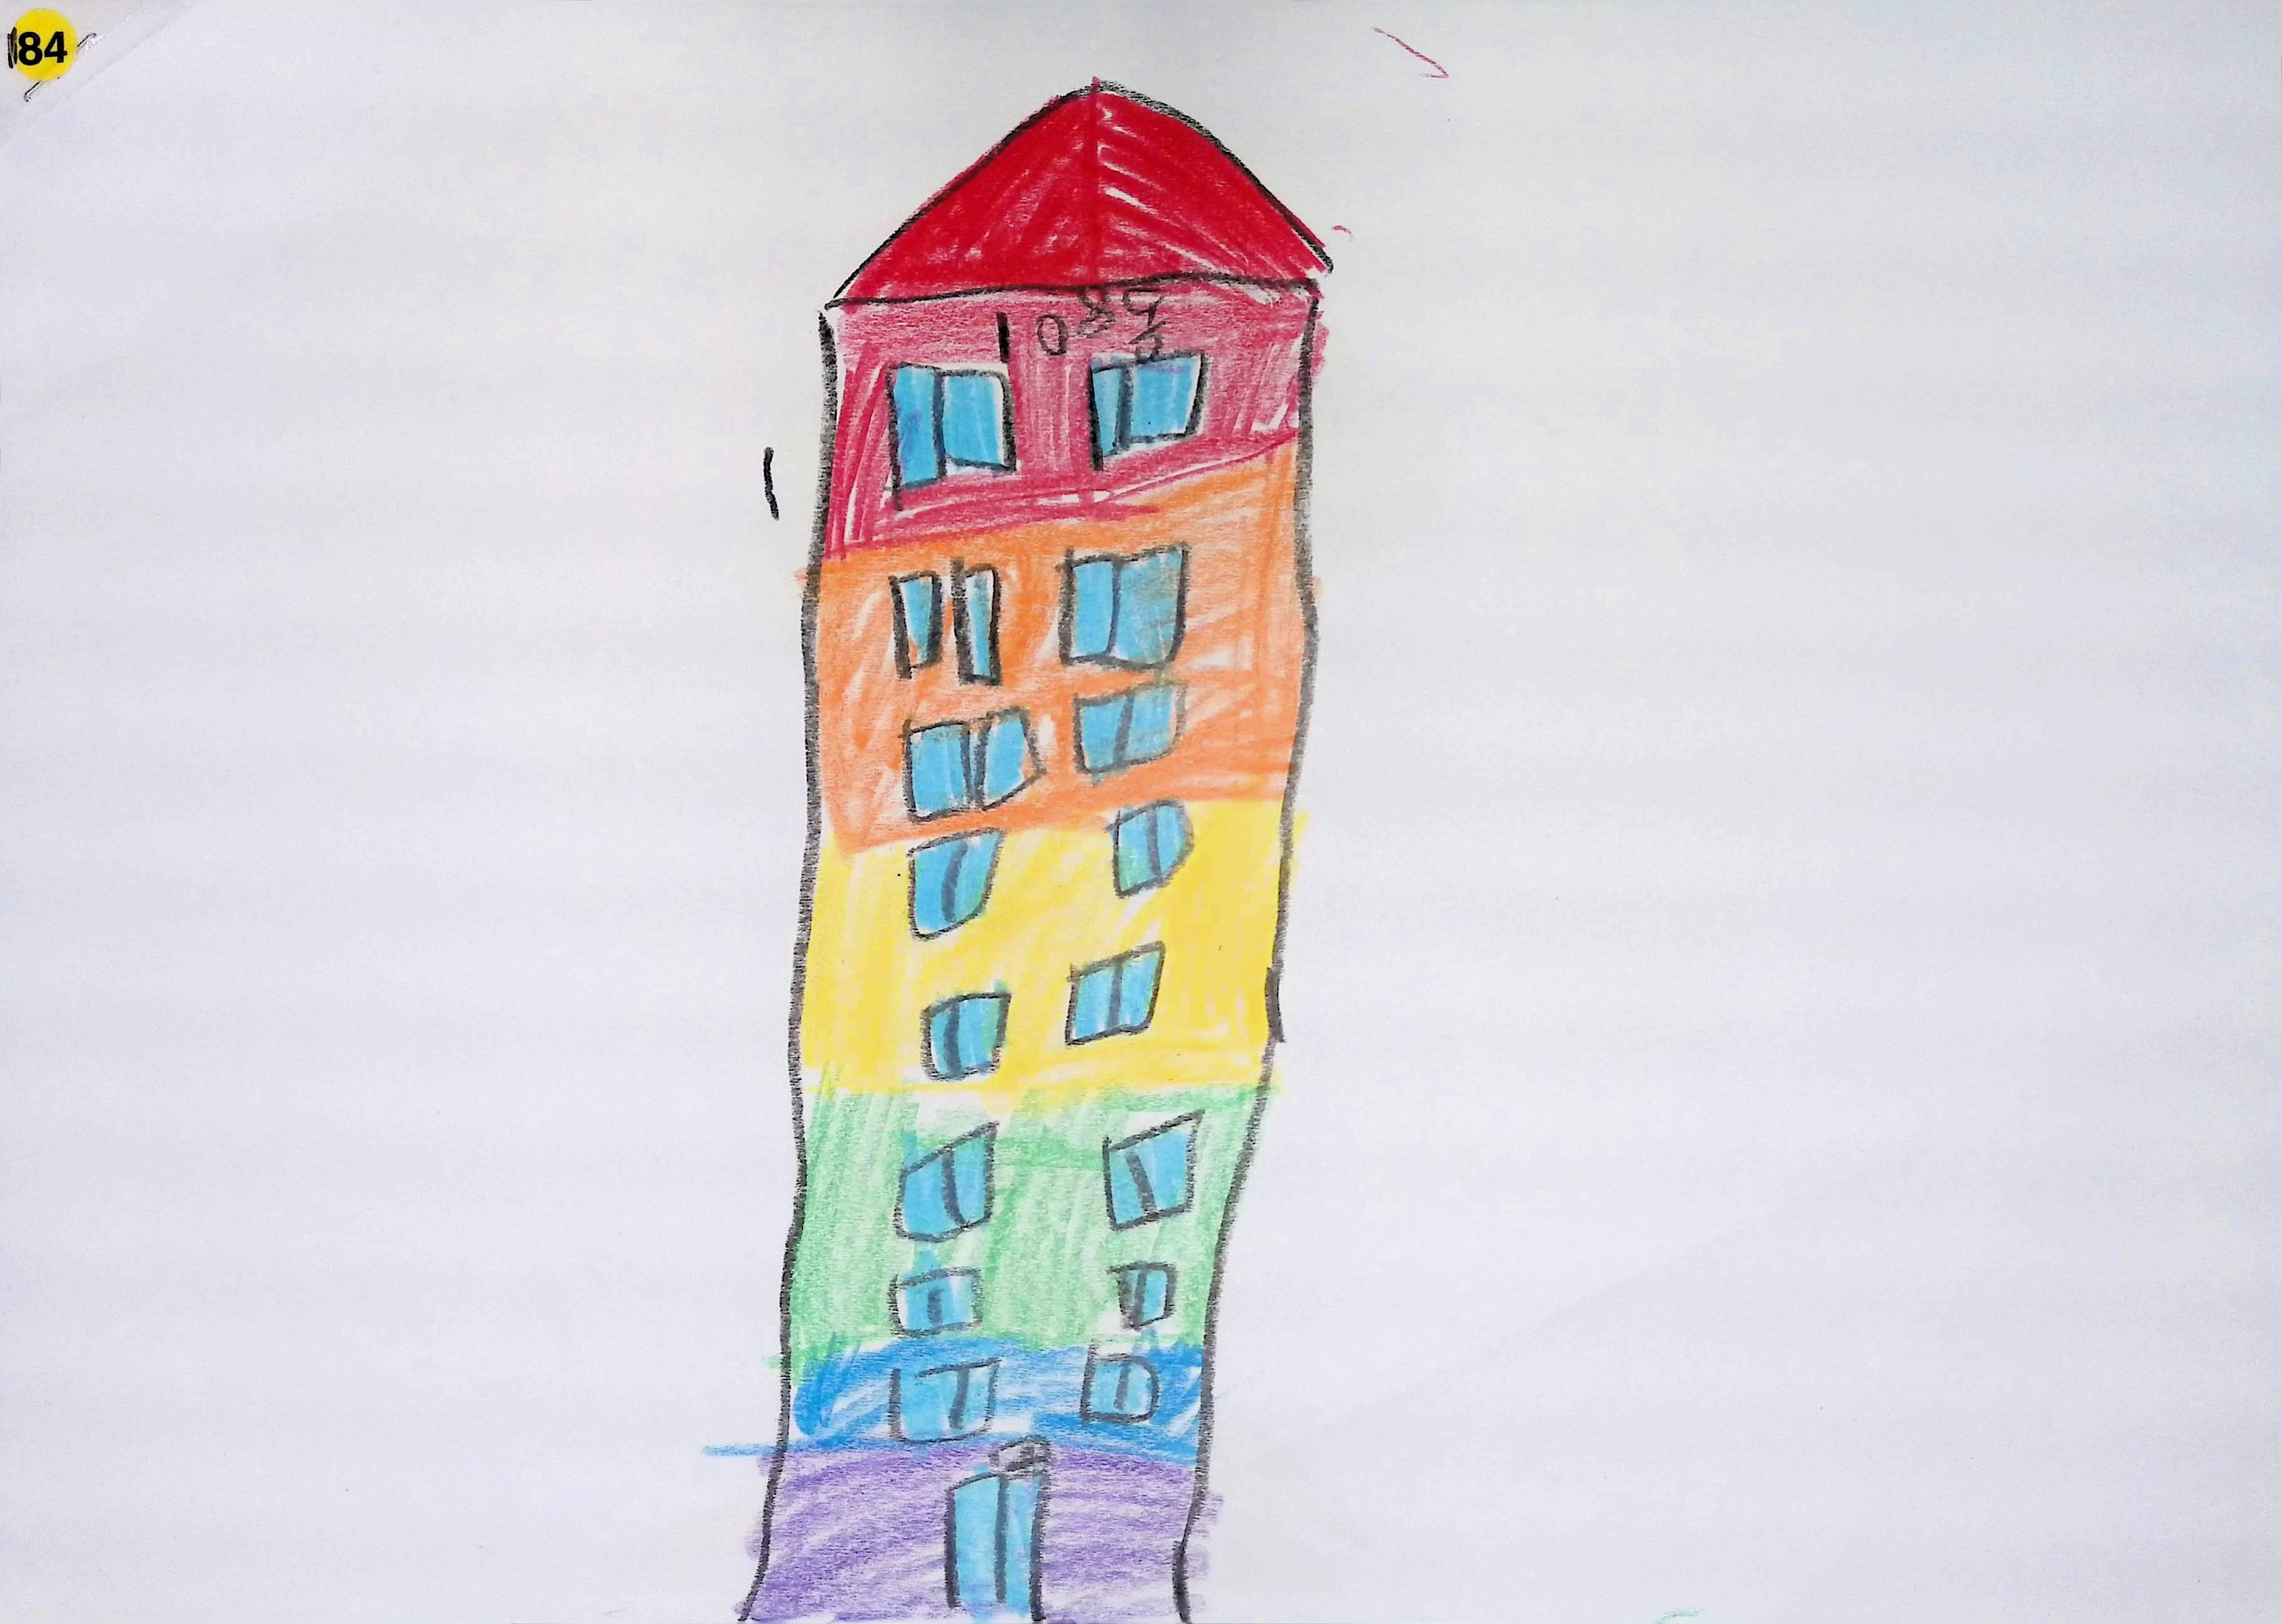door: (947, 1446, 1051, 1624)
house: (750, 79, 1330, 1620)
roof: (833, 79, 1332, 301)
wall: (747, 269, 1326, 1624)
window: (889, 362, 1008, 487), (1065, 545, 1186, 666), (905, 708, 1036, 817), (1091, 352, 1205, 459), (894, 1127, 994, 1241), (1105, 1113, 1202, 1230), (910, 830, 1003, 937), (1066, 944, 1165, 1044), (1077, 682, 1182, 773), (889, 1360, 1000, 1445), (1114, 800, 1193, 895), (922, 993, 1008, 1079), (1080, 1352, 1159, 1425), (891, 1271, 980, 1334), (956, 564, 1001, 682), (891, 571, 942, 675), (1110, 1264, 1175, 1332)
